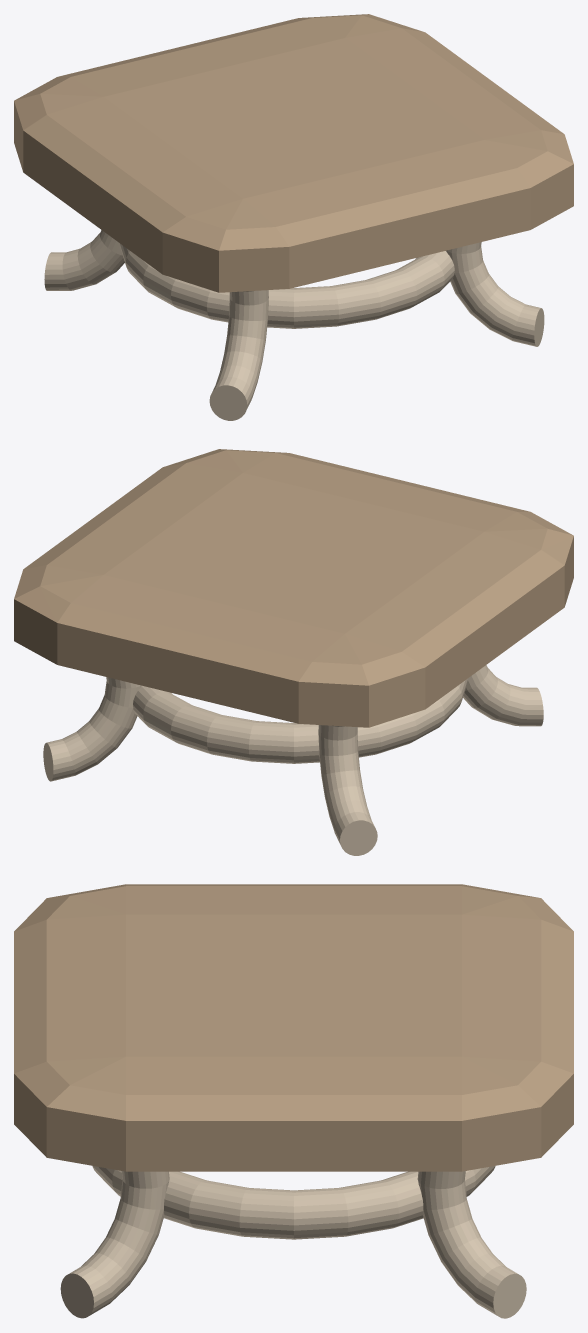
File: table.glb
3 renders of one model, top to bottom at view 1: azimuth 30°, elevation 25°; view 2: azimuth 150°, elevation 25°; view 3: azimuth 270°, elevation 25°, orthographic. The views are drawn at different scales.
Visible parts, largest first — view 1: Mesh_Mesh_head_geo.001_lambert2SG.001; view 2: Mesh_Mesh_head_geo.001_lambert2SG.001; view 3: Mesh_Mesh_head_geo.001_lambert2SG.001.
Part boxes in pixels (bbox=[...]): Mesh_Mesh_head_geo.001_lambert2SG.001: bbox=[14, 14, 573, 420]; Mesh_Mesh_head_geo.001_lambert2SG.001: bbox=[14, 449, 573, 855]; Mesh_Mesh_head_geo.001_lambert2SG.001: bbox=[14, 884, 573, 1318].
Size of the model in its own units: 24 by 11.35 by 24.
